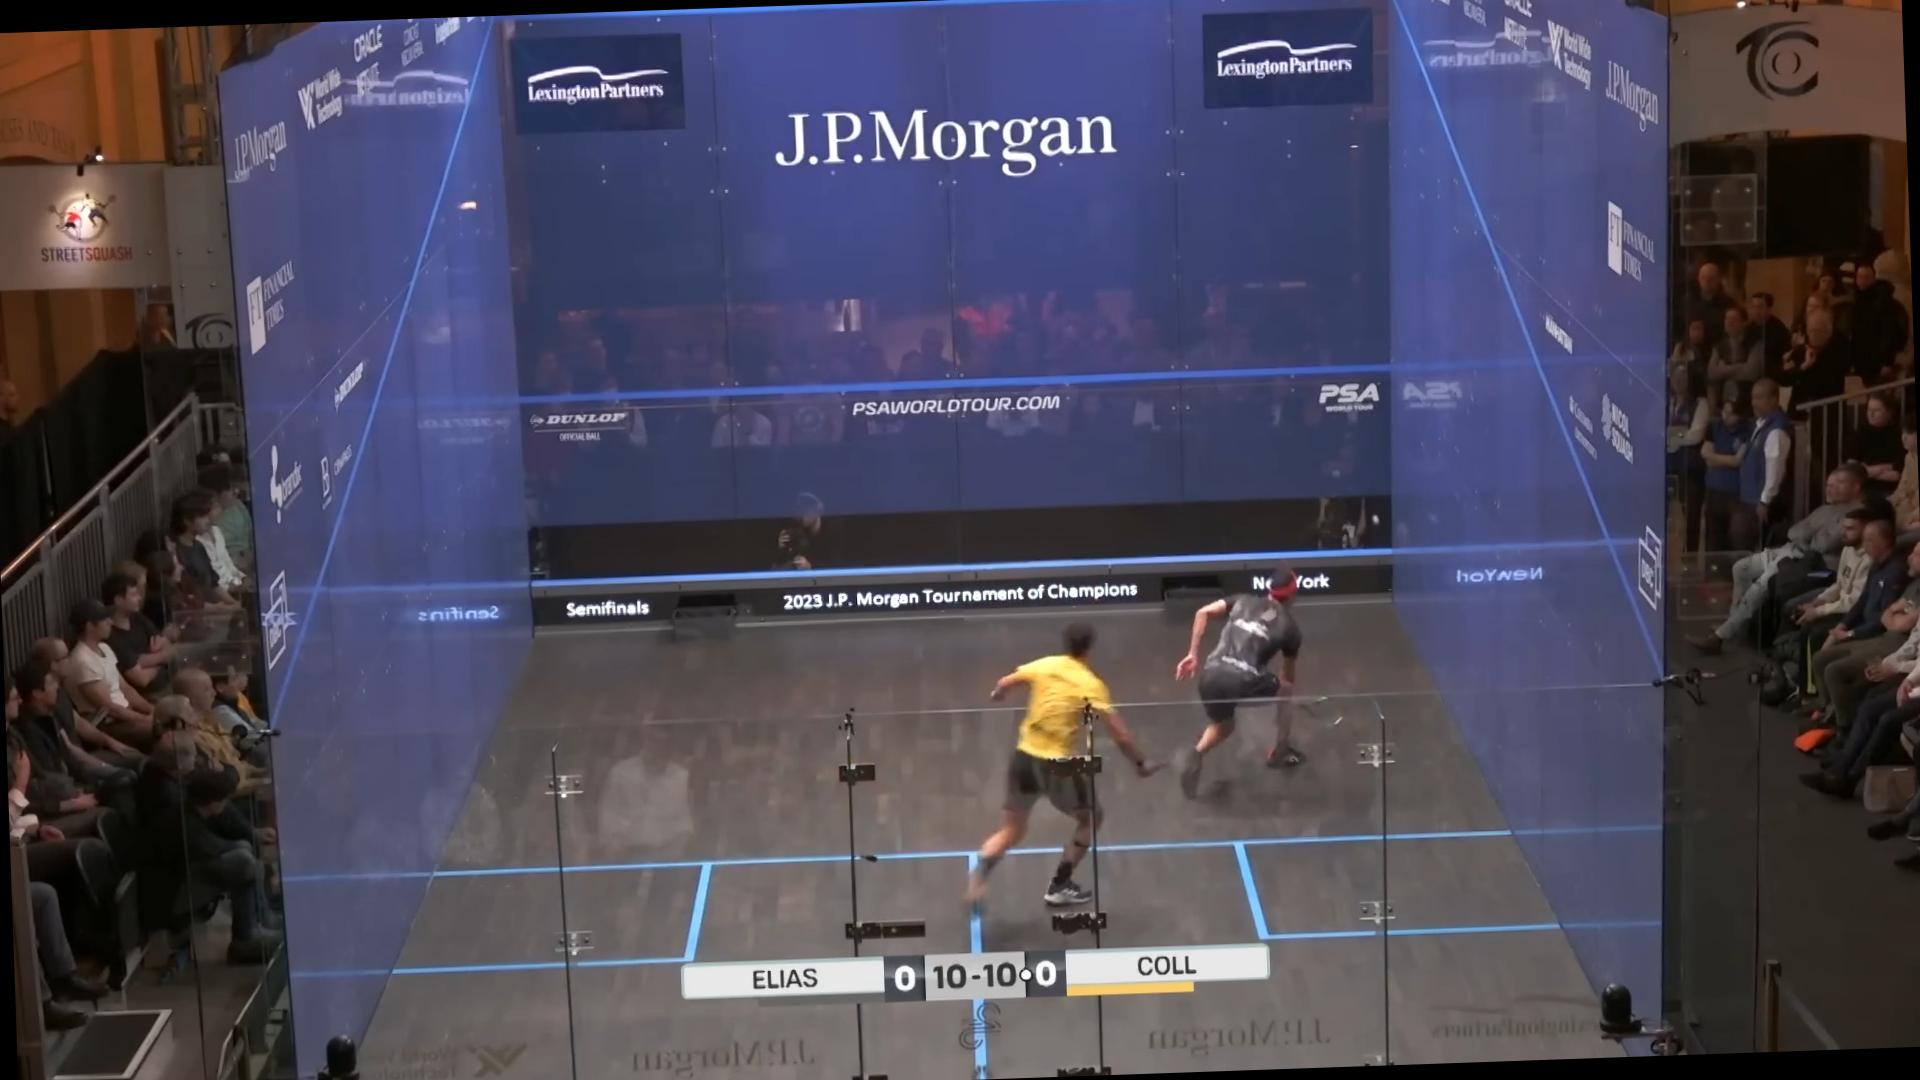Racket: (1143, 732, 1215, 785), (1283, 687, 1360, 736)
